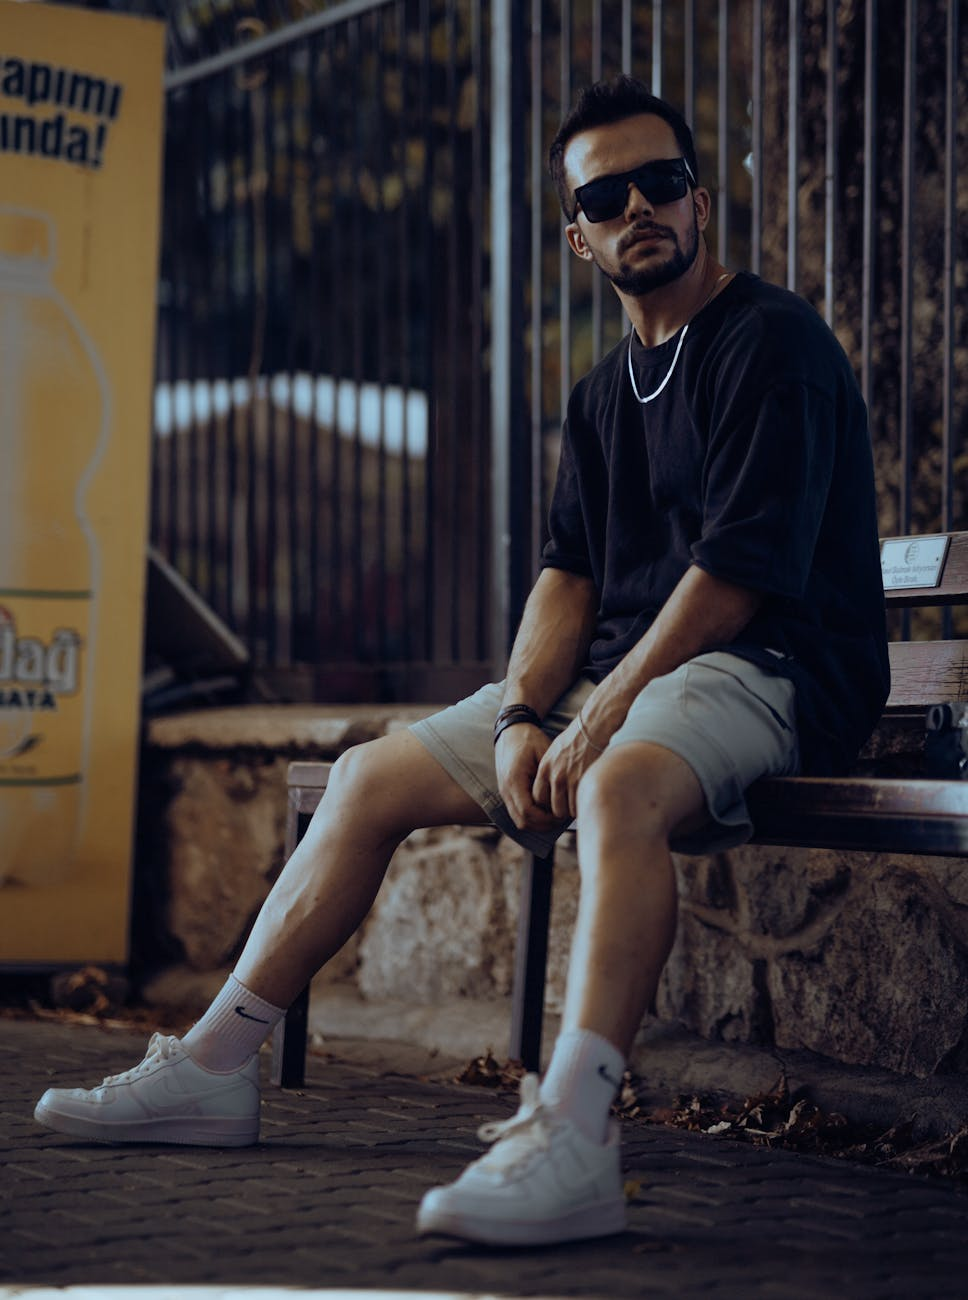shorts: (400, 638, 891, 853)
